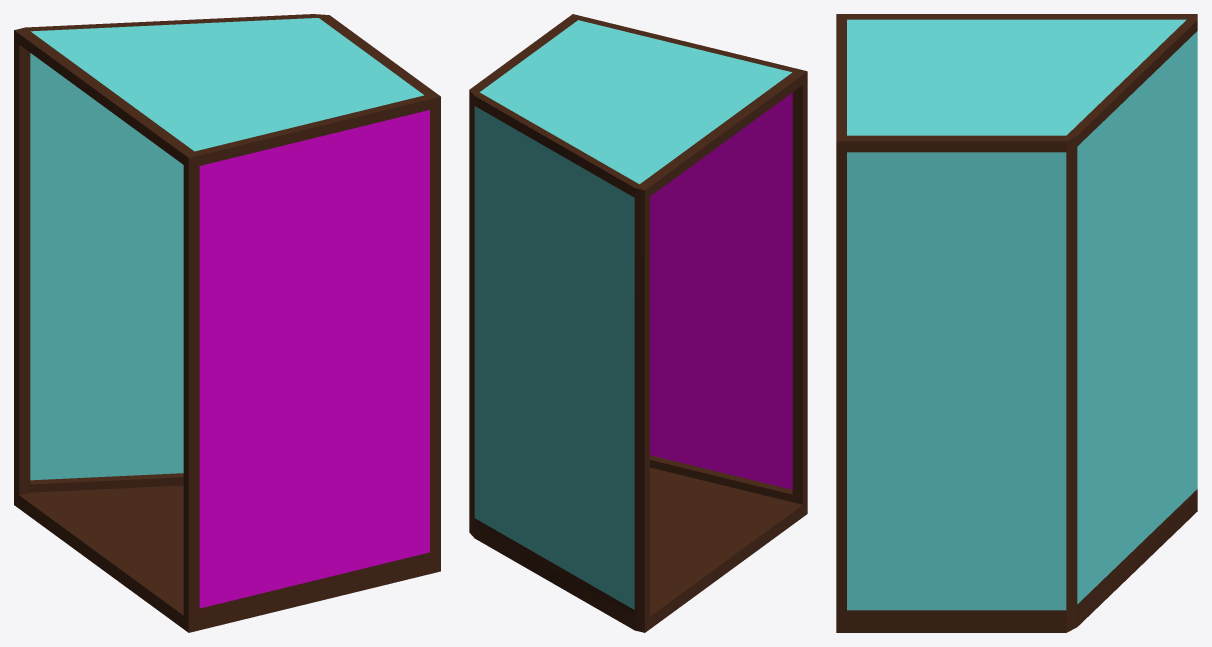
The model's file is TerrariumRight.fbx.
The picture shows the model from 3 angles, left to right: view 1: azimuth 30°, elevation 25°; view 2: azimuth 150°, elevation 25°; view 3: azimuth 270°, elevation 25°; orthographic projection. The views are drawn at different scales.
Visible parts, largest first — view 1: Terrarium right; view 2: Terrarium right; view 3: Terrarium right.
Boxes of the visible parts, left/top/right/bottom form: Terrarium right: left=14, top=14, right=440, bottom=632; Terrarium right: left=469, top=14, right=807, bottom=632; Terrarium right: left=836, top=14, right=1197, bottom=632.
Bounding box in the file's own units: 250 × 450 × 300.
